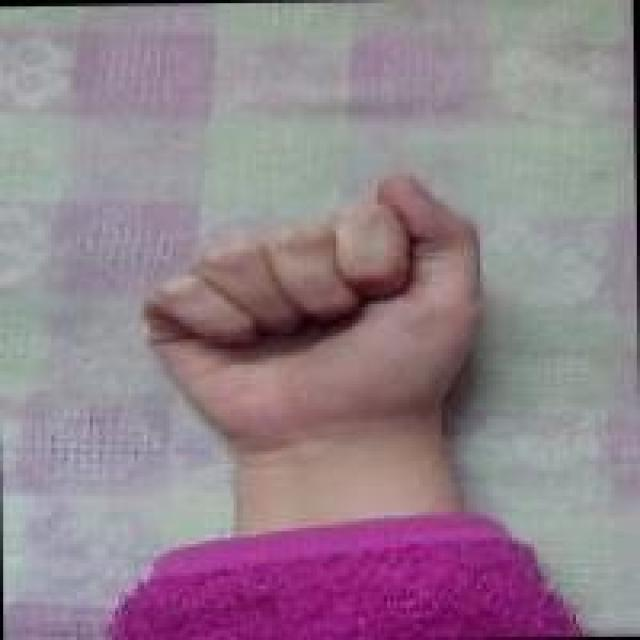A: (132, 158, 498, 440)
